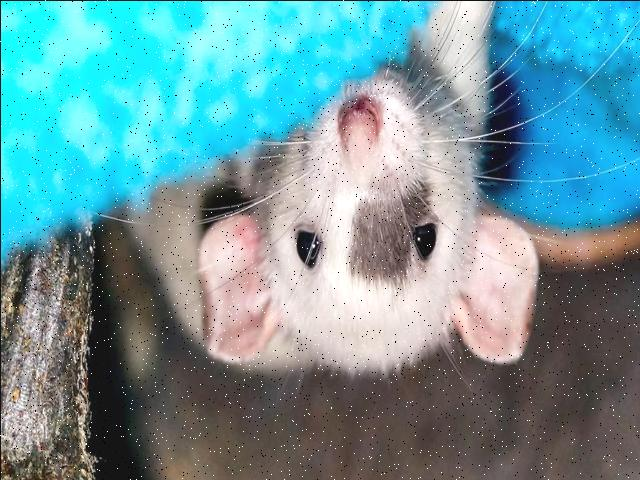Tikus: (153, 56, 548, 380)
